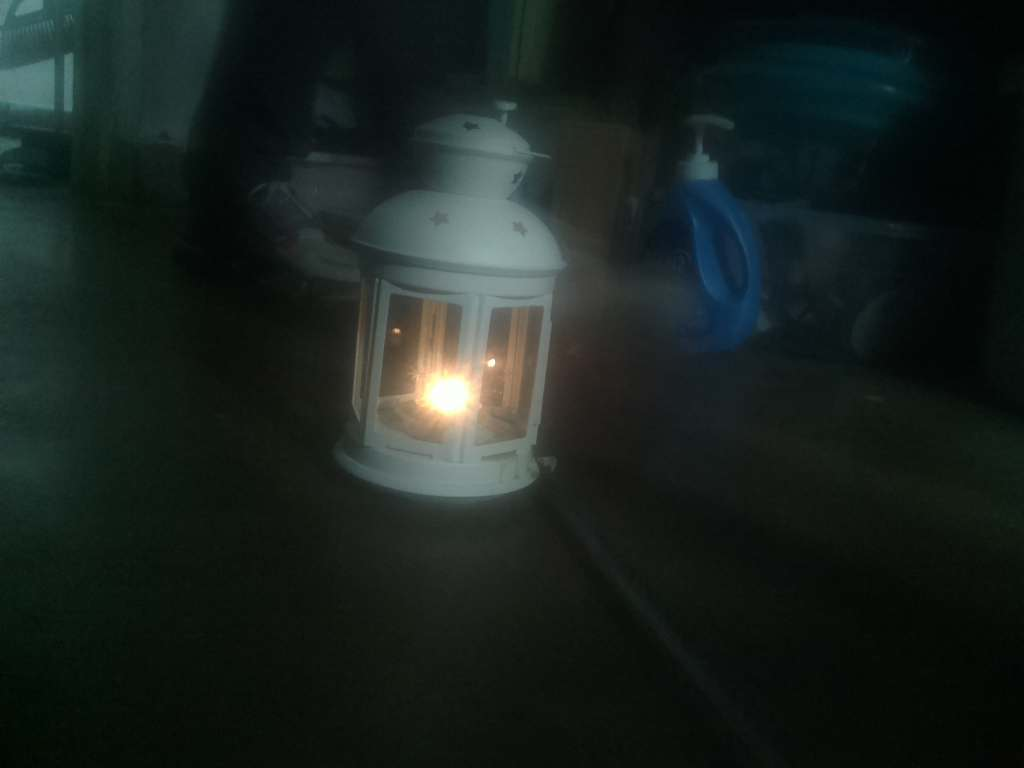fire: (389, 357, 491, 427)
